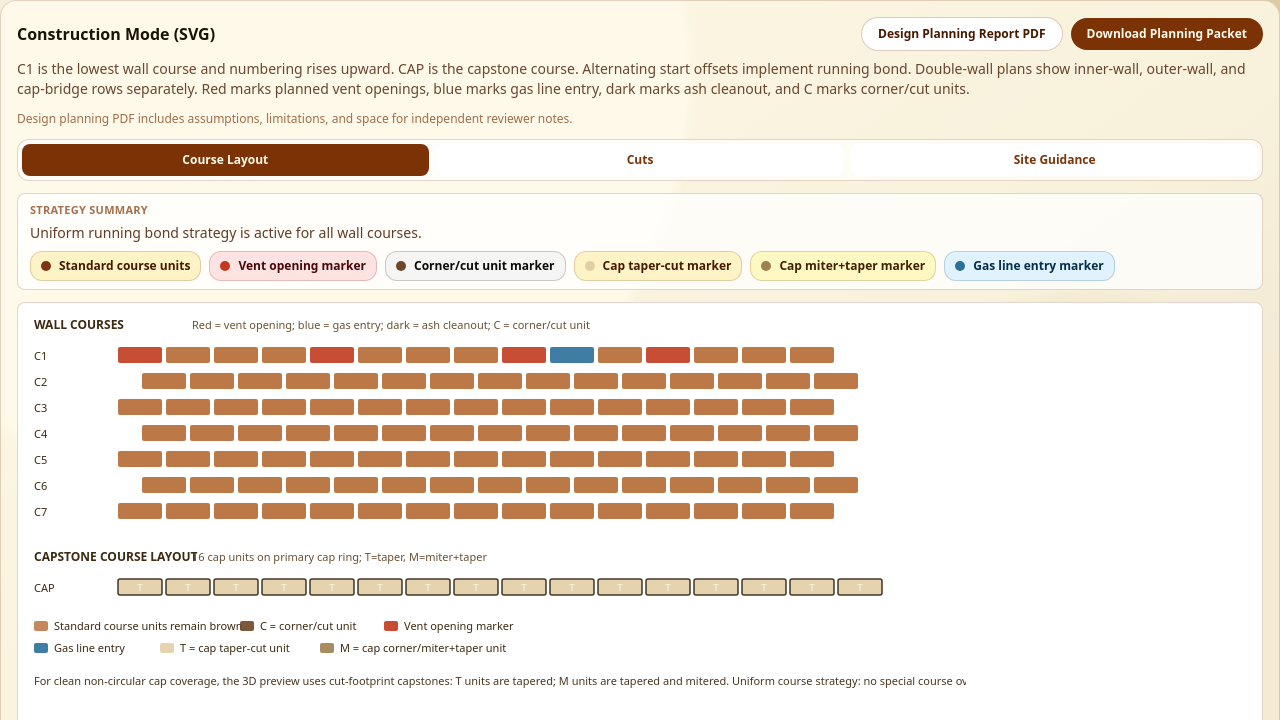
Test: ConstructionMode › renders site guidance with foundation review state and liner venting note
This screenshot has width=1280, height=720.
Click the tab "Site Guidance".
click(1055, 160)  # box [851,144,1258,176]
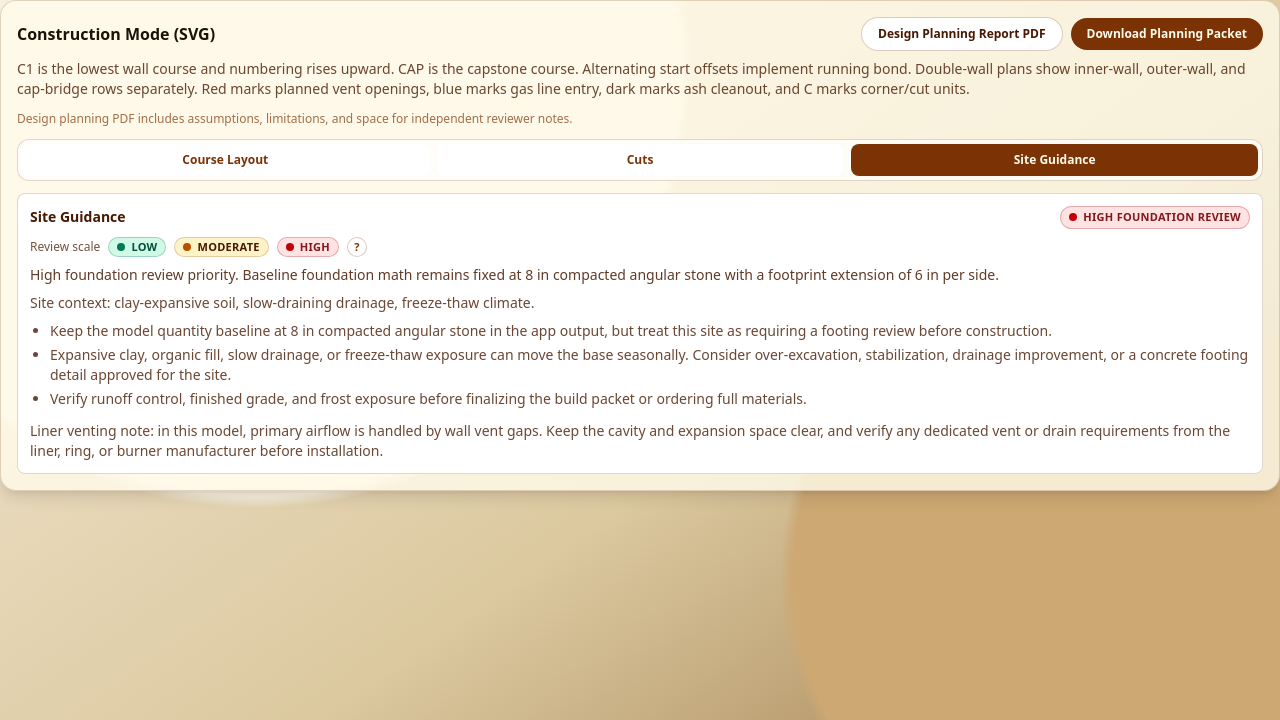
Now the heading "Site Guidance" is shown, box [30,207,126,227]
Now the text "high foundation review" is shown, box [1060,206,1250,228]
Now the text "Review scale" is shown, box [30,239,100,255]
